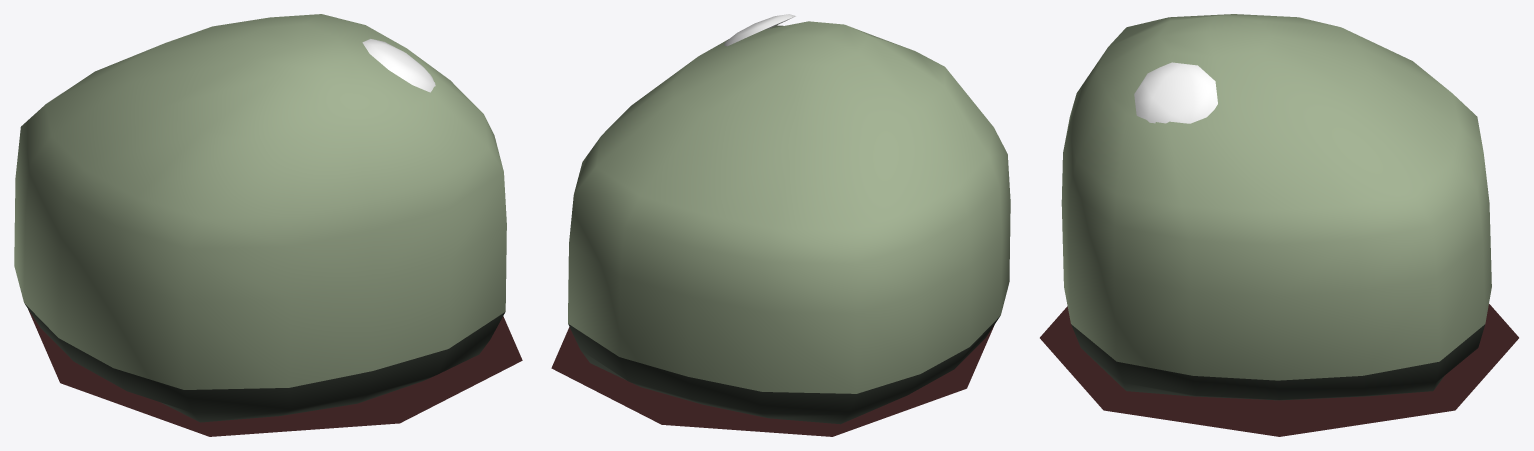
Rendered from Oozium238Mesh.JadeSun.glb.
The picture shows the model from 3 angles, left to right: view 1: azimuth 30°, elevation 25°; view 2: azimuth 150°, elevation 25°; view 3: azimuth 270°, elevation 25°; orthographic projection. The views are drawn at different scales.
Visible parts, largest first — view 1: Oozium238Mesh.JadeSun; view 2: Oozium238Mesh.JadeSun; view 3: Oozium238Mesh.JadeSun.
Part boxes in pixels (bbox=[...]): Oozium238Mesh.JadeSun: bbox=[14, 14, 522, 436]; Oozium238Mesh.JadeSun: bbox=[551, 14, 1010, 436]; Oozium238Mesh.JadeSun: bbox=[1040, 14, 1518, 436].
Size of the model in its own units: 2.04 by 1.44 by 2.07.
Materials: 1 (1 with a texture image).
